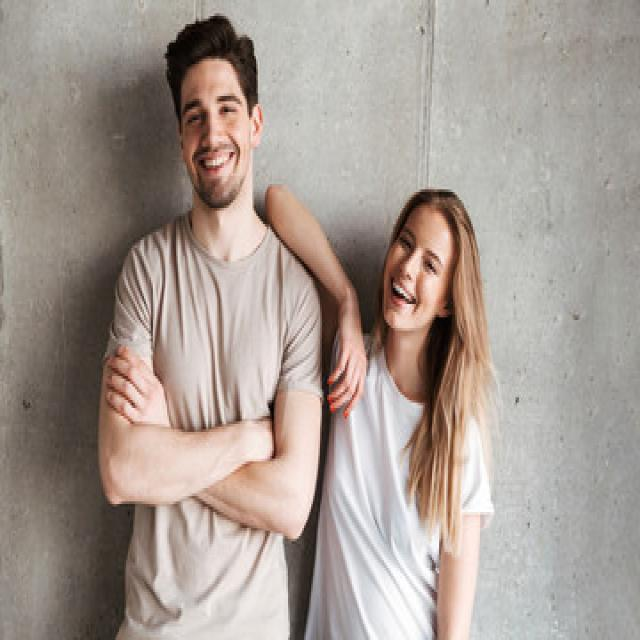Nonhelmet: (161, 18, 271, 217), (371, 165, 481, 352)
